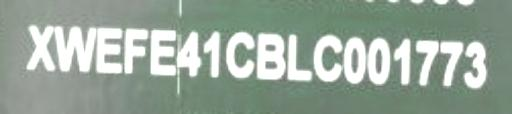letter: (53, 22, 97, 71), (222, 28, 256, 80), (255, 28, 287, 80), (312, 32, 344, 84), (24, 22, 56, 71), (94, 24, 126, 73), (147, 28, 179, 76), (285, 28, 313, 82), (175, 28, 203, 80), (340, 34, 368, 84), (120, 27, 148, 76), (412, 38, 440, 87), (438, 38, 464, 90), (365, 36, 393, 84), (463, 38, 487, 90), (202, 26, 224, 80), (391, 36, 413, 86)
